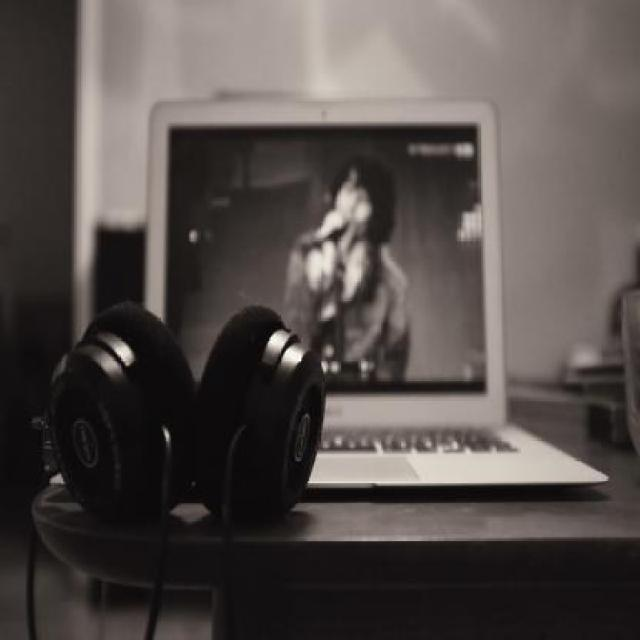earphone: (65, 297, 325, 534)
laptop_computer: (132, 81, 608, 500)
